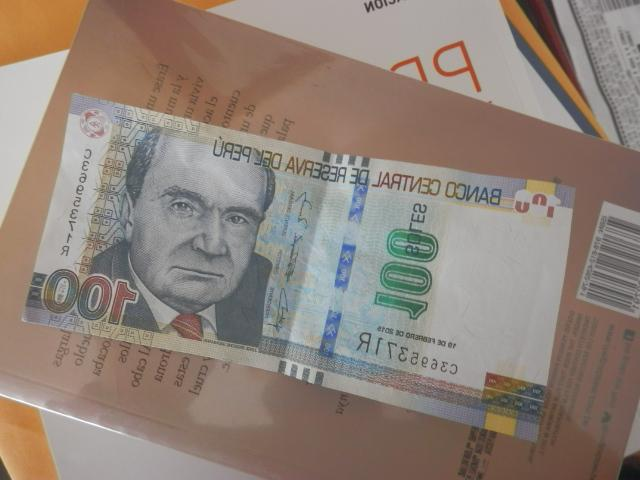B100: (24, 93, 575, 445)
